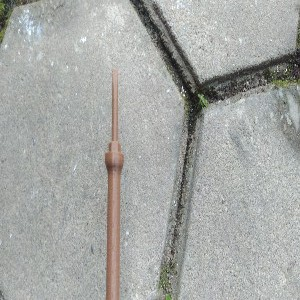obeng: (105, 69, 125, 300)
